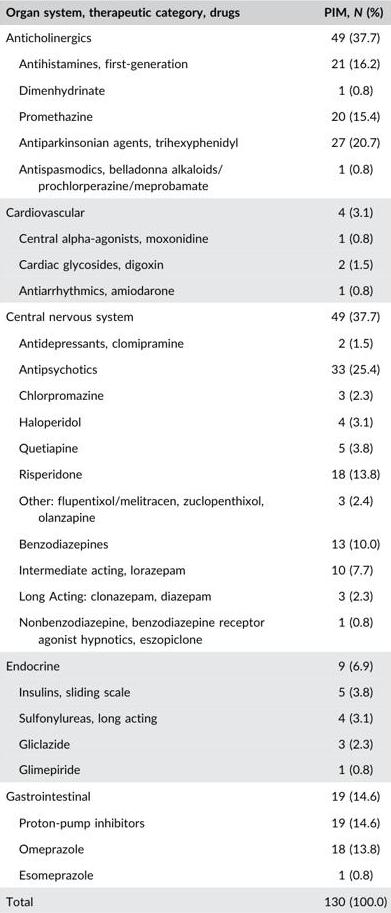table: (5, 4, 386, 907)
table column: (5, 4, 293, 907), (293, 4, 386, 907)
table column header: (5, 4, 386, 24)
table row: (5, 154, 386, 198), (5, 486, 386, 529), (5, 608, 386, 651), (5, 49, 386, 76), (5, 302, 386, 329), (5, 407, 386, 434), (5, 529, 386, 556), (5, 651, 386, 678), (5, 808, 386, 835), (5, 76, 386, 102), (5, 102, 386, 128), (5, 128, 386, 154), (5, 198, 386, 224), (5, 224, 386, 250), (5, 250, 386, 276), (5, 276, 386, 302), (5, 329, 386, 355), (5, 355, 386, 381), (5, 381, 386, 407), (5, 434, 386, 460), (5, 460, 386, 486), (5, 556, 386, 582), (5, 582, 386, 608), (5, 678, 386, 704), (5, 704, 386, 730), (5, 730, 386, 756), (5, 756, 386, 782), (5, 782, 386, 808), (5, 835, 386, 861), (5, 861, 386, 887), (5, 24, 386, 49), (5, 4, 386, 24), (5, 887, 386, 907)
